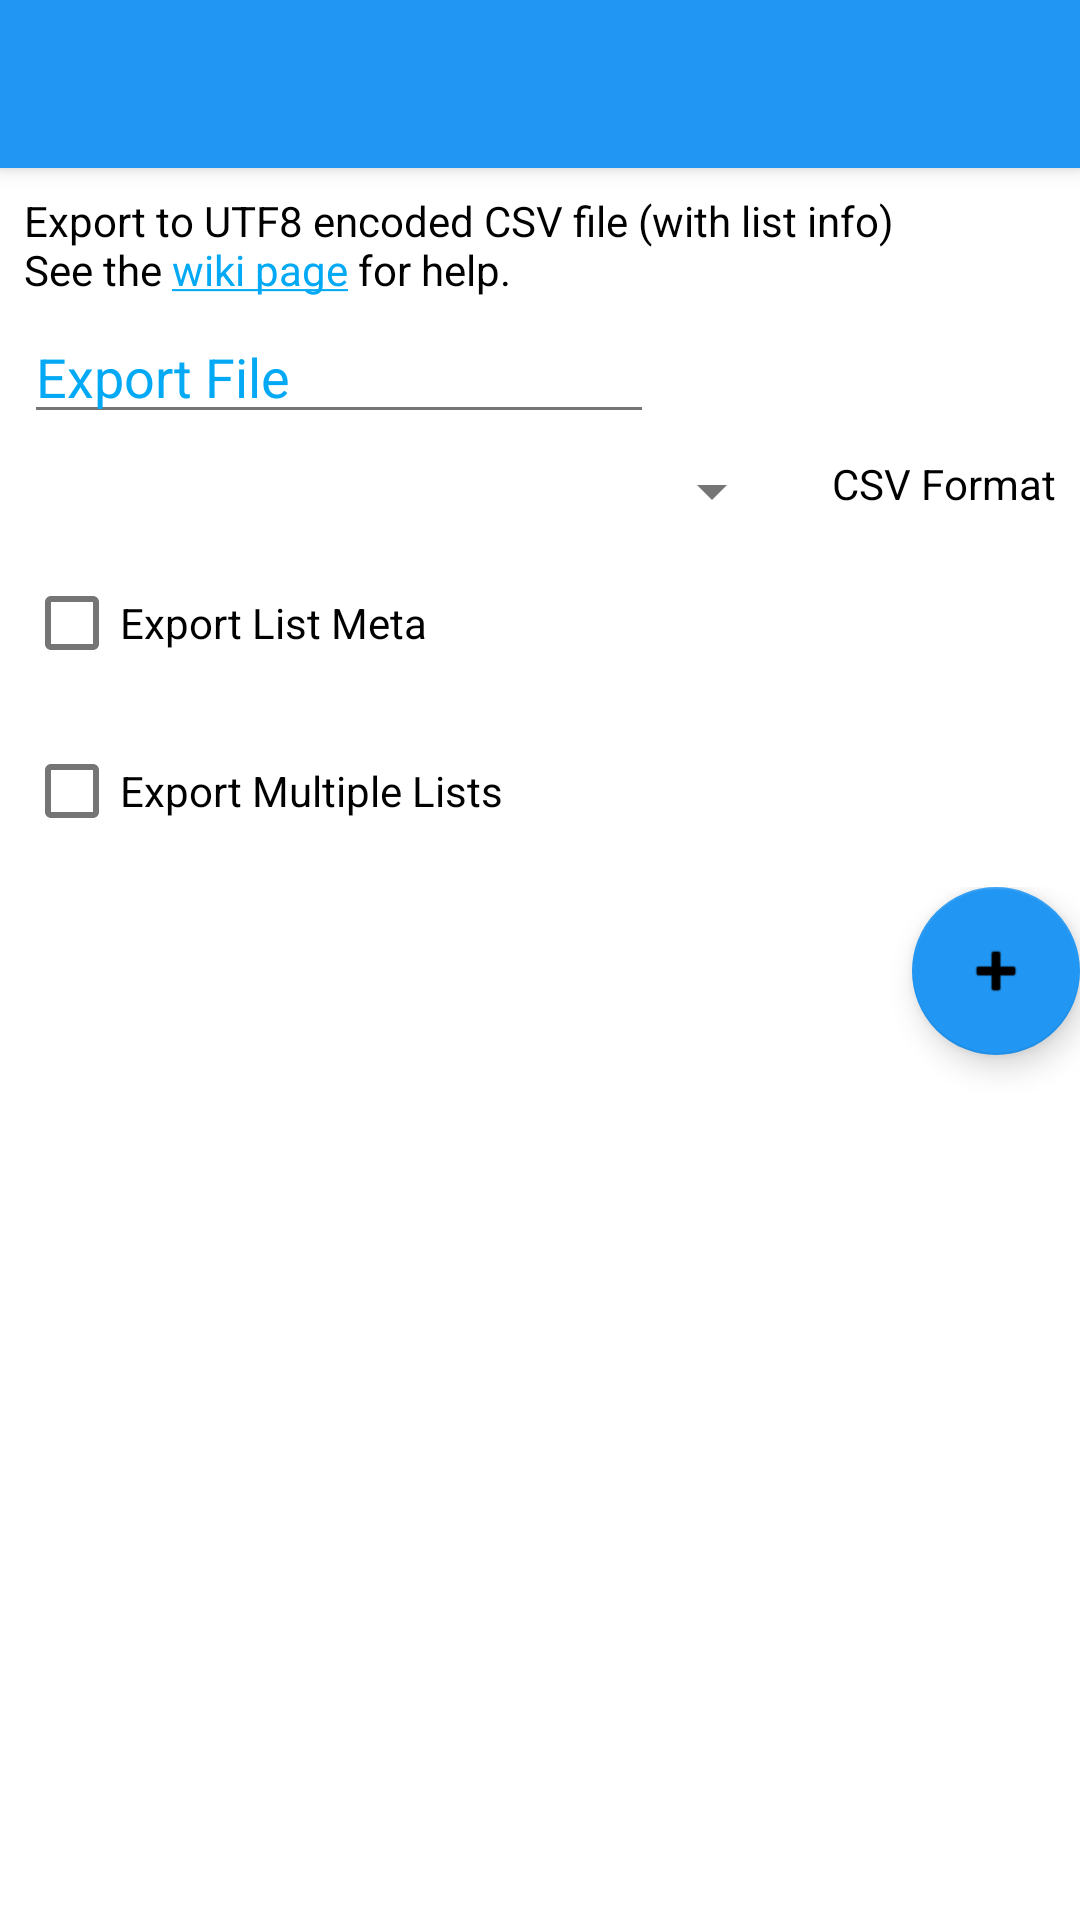

Screen size 1080*1920. Icon name, then its center in pixels as (x,y):
add: (996,971)
